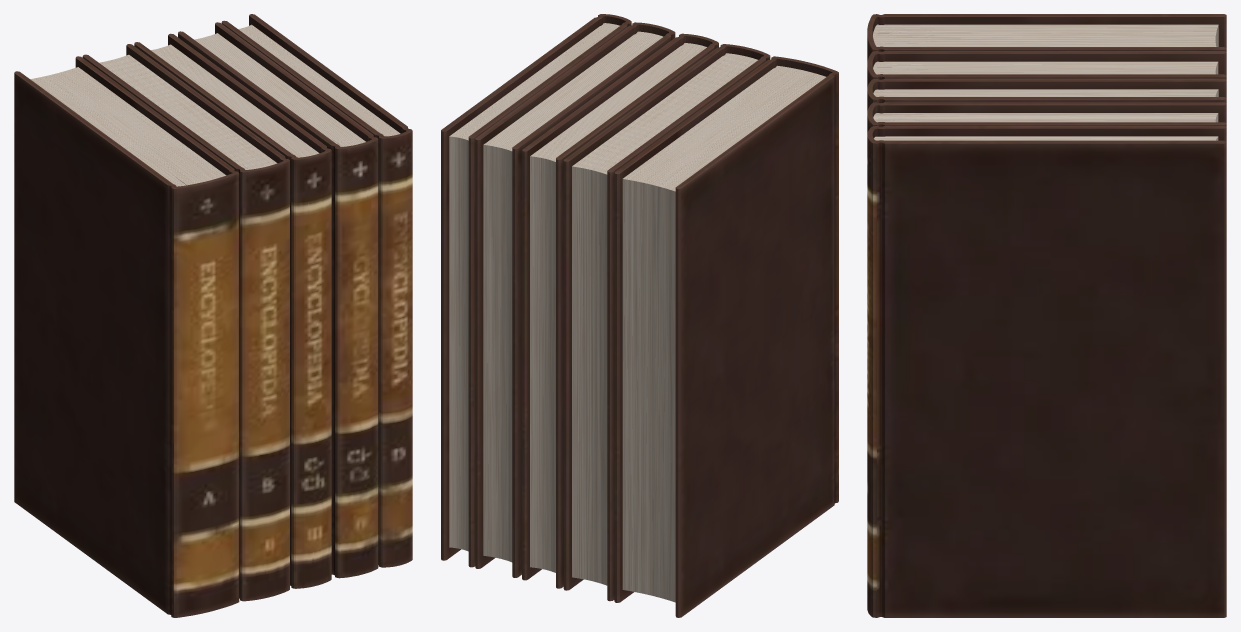
The model's file is book_encyclopedia_set_01.glb.
The picture shows the model from 3 angles, left to right: view 1: azimuth 30°, elevation 25°; view 2: azimuth 150°, elevation 25°; view 3: azimuth 270°, elevation 25°; orthographic projection. The views are drawn at different scales.
Parts seen in each view (by area): view 1: book_encyclopedia_set_01_book01, book_encyclopedia_set_01_book02, book_encyclopedia_set_01_book04, book_encyclopedia_set_01_book03, book_encyclopedia_set_01_book05; view 2: book_encyclopedia_set_01_book01, book_encyclopedia_set_01_book02, book_encyclopedia_set_01_book04, book_encyclopedia_set_01_book03, book_encyclopedia_set_01_book05; view 3: book_encyclopedia_set_01_book05, book_encyclopedia_set_01_book01, book_encyclopedia_set_01_book02, book_encyclopedia_set_01_book03, book_encyclopedia_set_01_book04.
Part boxes in pixels (x1,y1,x2,y2): book_encyclopedia_set_01_book01: [14, 56, 239, 617]; book_encyclopedia_set_01_book02: [82, 44, 289, 601]; book_encyclopedia_set_01_book04: [178, 22, 378, 578]; book_encyclopedia_set_01_book03: [134, 33, 331, 588]; book_encyclopedia_set_01_book05: [221, 14, 412, 567]; book_encyclopedia_set_01_book01: [614, 56, 838, 617]; book_encyclopedia_set_01_book02: [563, 44, 770, 601]; book_encyclopedia_set_01_book04: [475, 22, 675, 577]; book_encyclopedia_set_01_book03: [522, 33, 718, 588]; book_encyclopedia_set_01_book05: [441, 14, 631, 567]; book_encyclopedia_set_01_book05: [867, 125, 1226, 617]; book_encyclopedia_set_01_book01: [867, 14, 1226, 61]; book_encyclopedia_set_01_book02: [867, 51, 1226, 86]; book_encyclopedia_set_01_book03: [867, 78, 1226, 110]; book_encyclopedia_set_01_book04: [867, 102, 1226, 134].
Bounding box in the file's own units: 0.1392 × 0.2374 × 0.1631.
2 materials, 2 textured.
